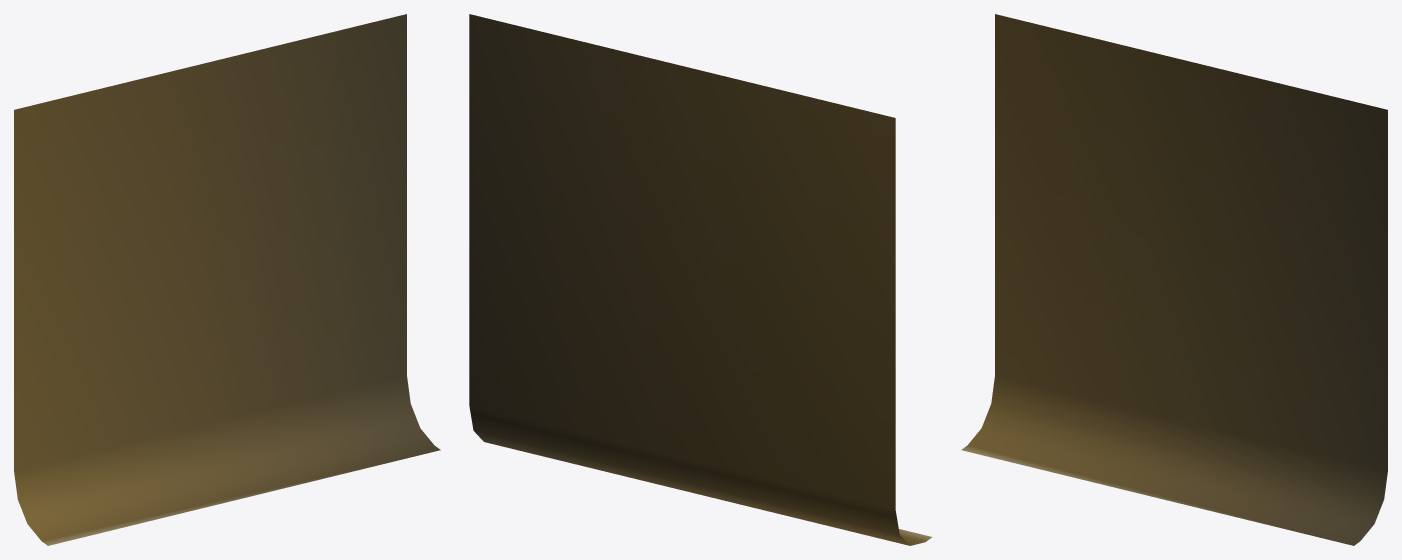
Rendered from Base_RoadWallSide.fbx.
The picture shows the model from 3 angles, left to right: view 1: azimuth 30°, elevation 25°; view 2: azimuth 150°, elevation 25°; view 3: azimuth 330°, elevation 25°; orthographic projection. The views are drawn at different scales.
Parts seen in each view (by area): view 1: Base_RoadWallSide; view 2: Base_RoadWallSide; view 3: Base_RoadWallSide.
Part boxes in pixels (x1,y1,x2,y2): Base_RoadWallSide: (14,14,440,545); Base_RoadWallSide: (469,14,931,545); Base_RoadWallSide: (961,14,1387,545).
Bounding box in the file's own units: 2000 × 2000 × 300.
